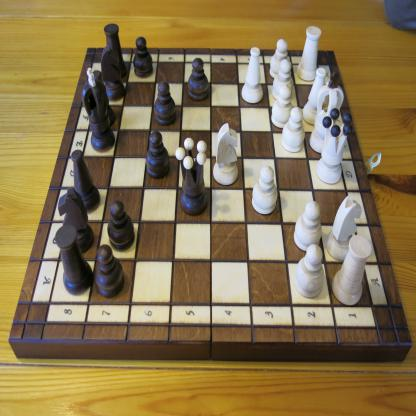black-bishop: (70, 149, 100, 214), (92, 70, 115, 127)
black-king: (81, 68, 115, 154)
black-knight: (57, 186, 94, 254), (100, 44, 126, 102)
black-pawn: (94, 244, 124, 299), (107, 199, 135, 252), (145, 131, 170, 179), (154, 81, 176, 127), (187, 57, 209, 101), (133, 36, 153, 79)
black-queen: (173, 141, 207, 222)
black-rook: (54, 225, 94, 296), (104, 23, 128, 80)
white-bishop: (302, 68, 326, 126), (241, 46, 263, 104)
white-king: (308, 70, 345, 154)
white-knight: (326, 194, 362, 262), (213, 122, 238, 187)
white-pawn: (294, 244, 324, 299), (293, 201, 322, 253), (251, 165, 278, 215), (281, 107, 305, 153), (271, 83, 292, 128), (271, 59, 294, 100), (270, 39, 288, 78)
white-queen: (315, 107, 353, 184)
white-rook: (331, 234, 372, 307), (296, 25, 322, 82)
